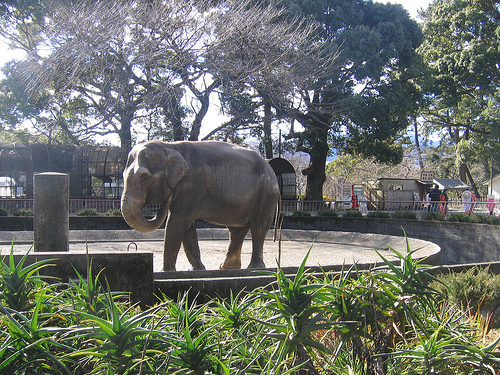elephant: (119, 136, 292, 274)
